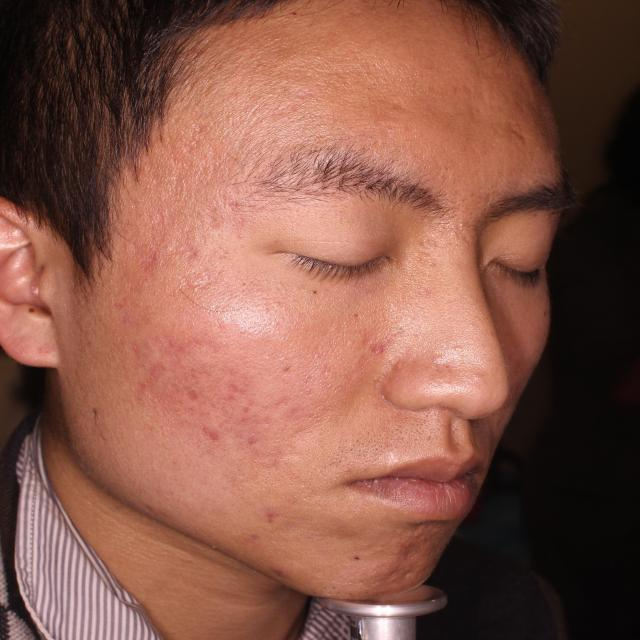acne: (133, 242, 174, 285), (256, 560, 303, 587), (232, 418, 264, 454), (213, 375, 256, 400), (182, 377, 205, 415), (259, 505, 282, 532), (231, 397, 257, 420), (199, 417, 221, 442), (238, 523, 262, 542)
